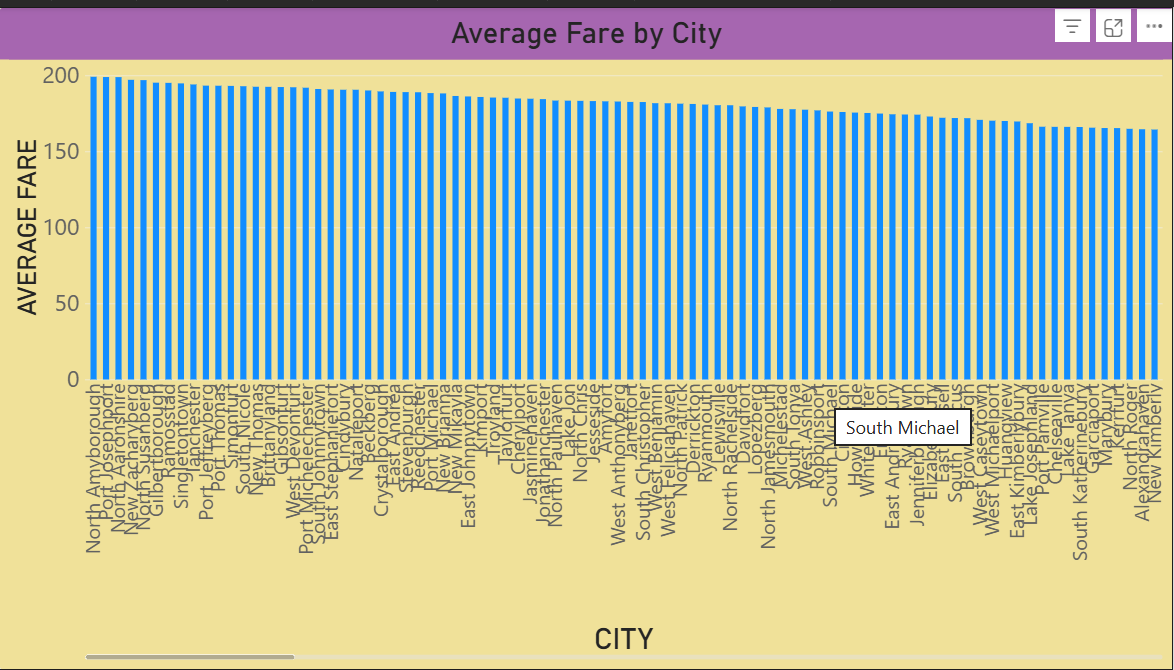

This screenshot's page, from the dashboard's own definition file:
{"tool":"powerbi","page":{"name":"Page 5","canvas":[1920,1080],"ordinal":5},"visuals":[{"type":"clusteredColumnChart","title":"Average Fare by City","fields":{"Category":["rides_dataset1.start_city"],"Y":["city_dataset2.Average Fare"]},"box":[9.1,0,1910.2,1078.9],"z":0}]}

Visuals, with their boxes on the page's 1920x1080 design canvas (x1, y1, x2, y2). These are canvas units, not pixel positions in the 1174x670 screenshot, which may show the page scaled, cropped or inside an application window:
"Average Fare by City" clusteredColumnChart: locate(9, 0, 1919, 1079)
